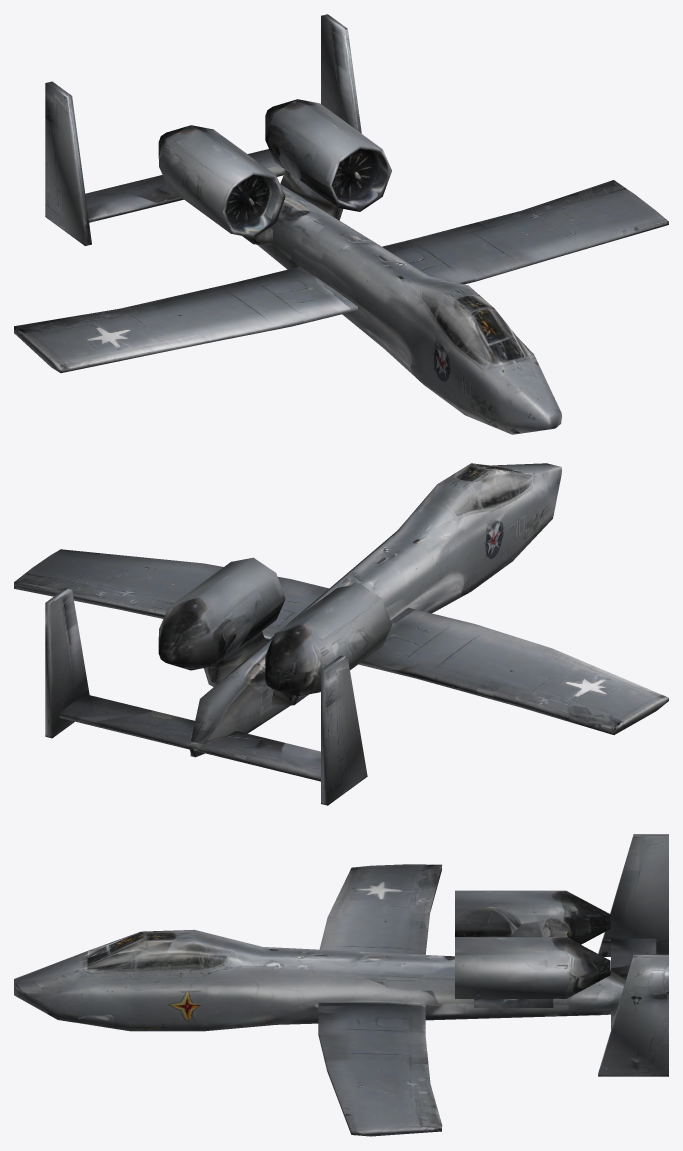
File: A10TbtHandmade.fbx
The picture shows the model from 3 angles, top to bottom: view 1: azimuth 30°, elevation 25°; view 2: azimuth 150°, elevation 25°; view 3: azimuth 270°, elevation 25°; orthographic projection. The views are drawn at different scales.
Parts seen in each view (by area): view 1: Mesh_0.006; view 2: Mesh_0.006; view 3: Mesh_0.006.
Boxes of the visible parts, <box> form: Mesh_0.006: <box>14,14,668,434</box>; Mesh_0.006: <box>14,463,668,805</box>; Mesh_0.006: <box>14,834,668,1136</box>.
Bounding box in the file's own units: 191 × 43.1 × 200.
1 material, 1 textured.
